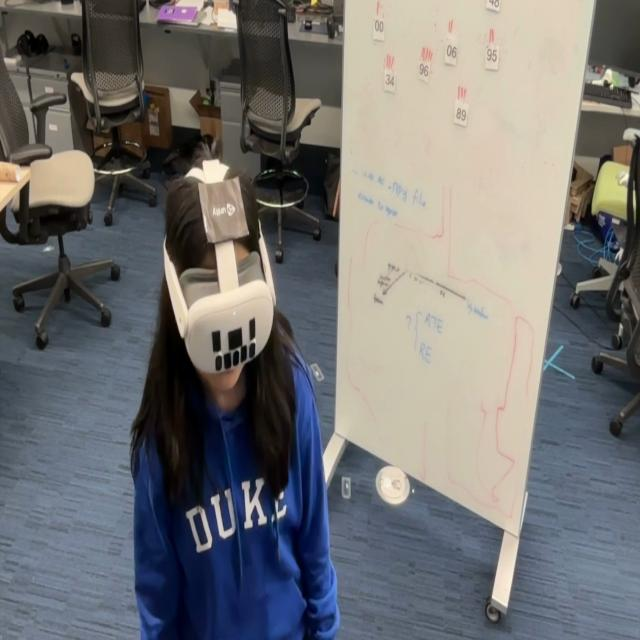Headset: (162, 218, 276, 376)
UnityLogo: (201, 181, 247, 243)
